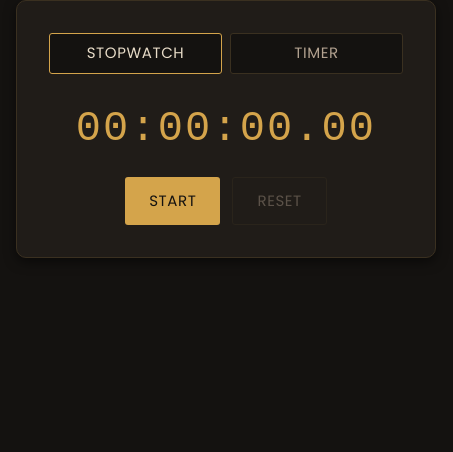
Stopwatch — timer mode › defaults to 15 minutes
Click the tab "Timer": (316, 53) [230,33,403,74]
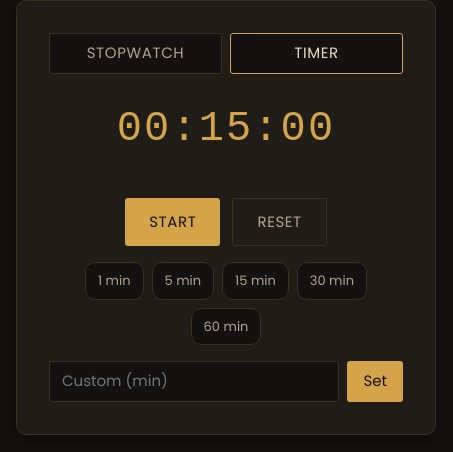
Expected: the text with class "stopwatch-display" reads "00:15:00", [117,104,335,152]
